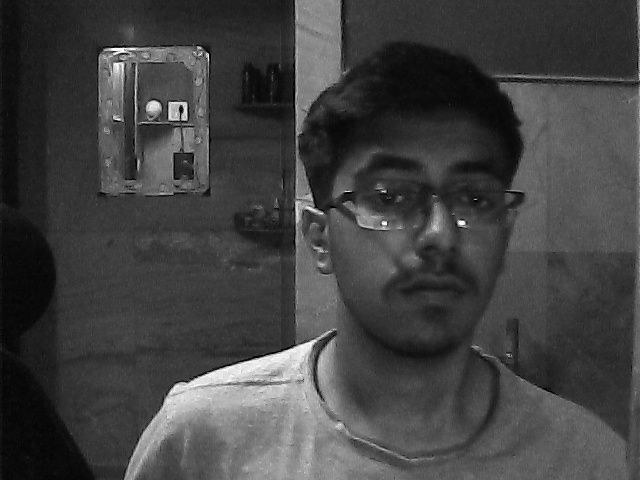nomask: (325, 97, 523, 369)
